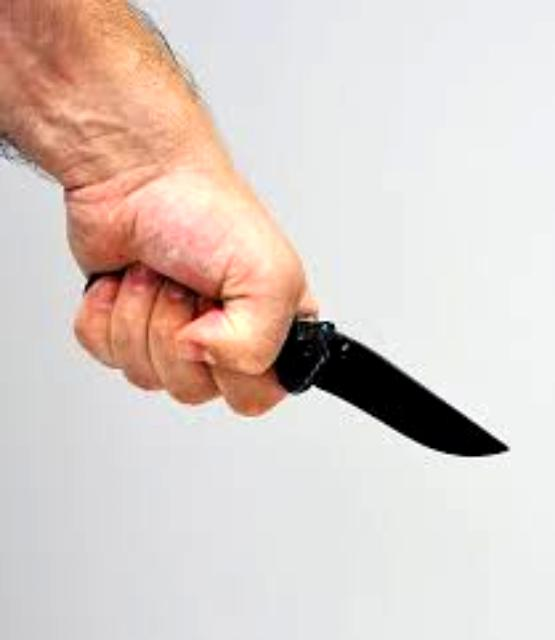pocket-knife: (86, 215, 516, 478)
